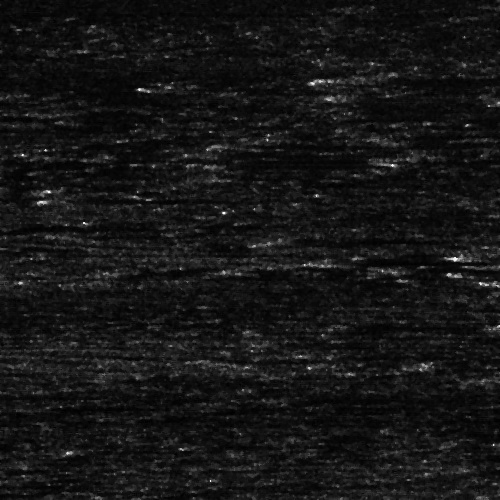object: (352, 149, 467, 170), (417, 245, 500, 262), (205, 139, 268, 146), (319, 75, 382, 82), (482, 395, 500, 410), (465, 260, 500, 265), (476, 278, 500, 283), (36, 196, 47, 201), (0, 225, 8, 228)
shadow: (410, 149, 500, 170), (237, 139, 438, 146), (0, 124, 145, 133), (351, 75, 500, 82), (42, 196, 243, 201), (0, 366, 79, 375), (0, 225, 195, 228), (470, 245, 500, 262), (0, 319, 59, 324)
